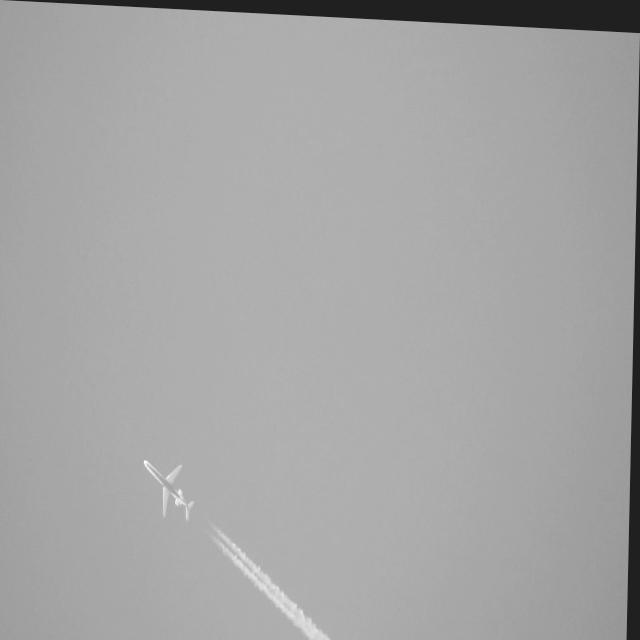aeroplane: (143, 445, 200, 527)
